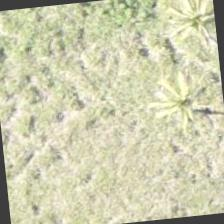Kelapa_Sawit: (125, 49, 223, 149), (144, 0, 221, 74)
